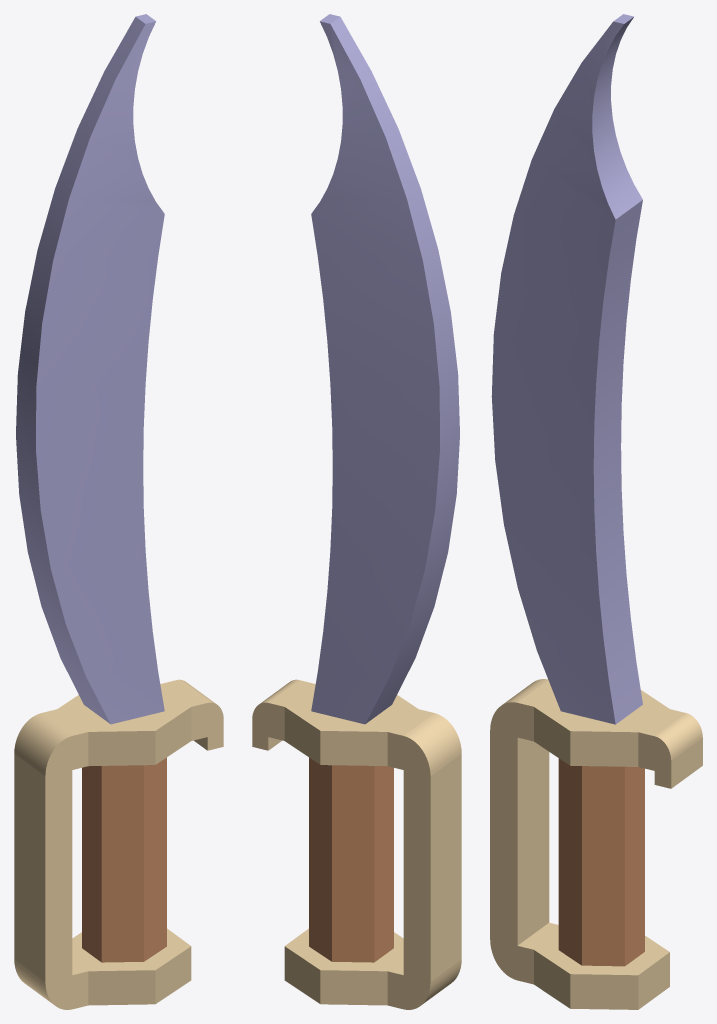
The model's file is SwordEight.fbx.
3 renders of one model, left to right at view 1: azimuth 30°, elevation 25°; view 2: azimuth 150°, elevation 25°; view 3: azimuth 330°, elevation 25°, orthographic.
Parts seen in each view (by area): view 1: mergedBlocks; view 2: mergedBlocks; view 3: mergedBlocks.
Boxes of the visible parts, x1,y1,x2,y2 form: mergedBlocks: (14,14,223,1009); mergedBlocks: (252,14,461,1009); mergedBlocks: (490,14,702,1009).
Bounding box in the file's own units: 3.71 × 18.63 × 2.2.
